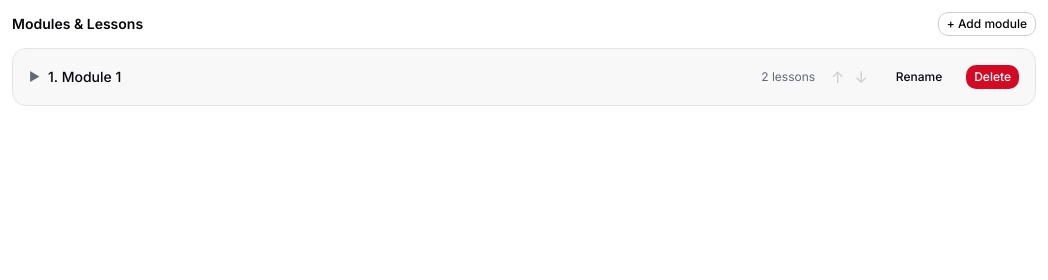
Test: ModuleManager — existing modules › expands module to show lessons on click
Click the text "1. Module 1" at (85, 76), box [48,68,121,85]
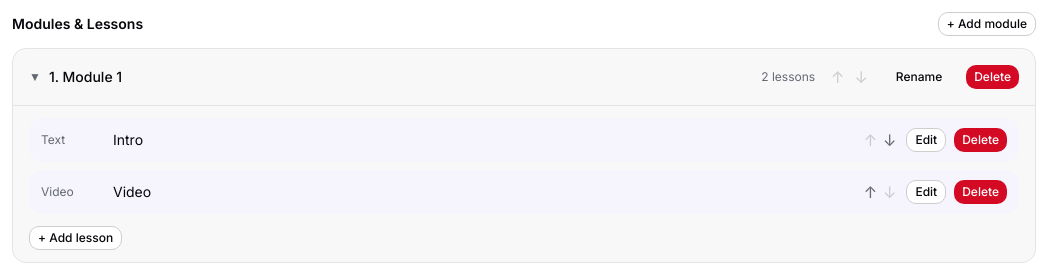
Expected: the text "Intro" is shown, [113,131,143,148]
Expected: the text "Video" is shown, [113,183,151,200]
